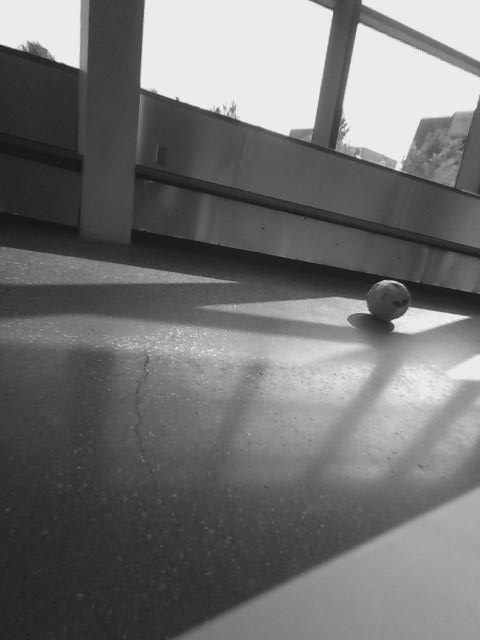ball: (364, 277, 415, 324)
